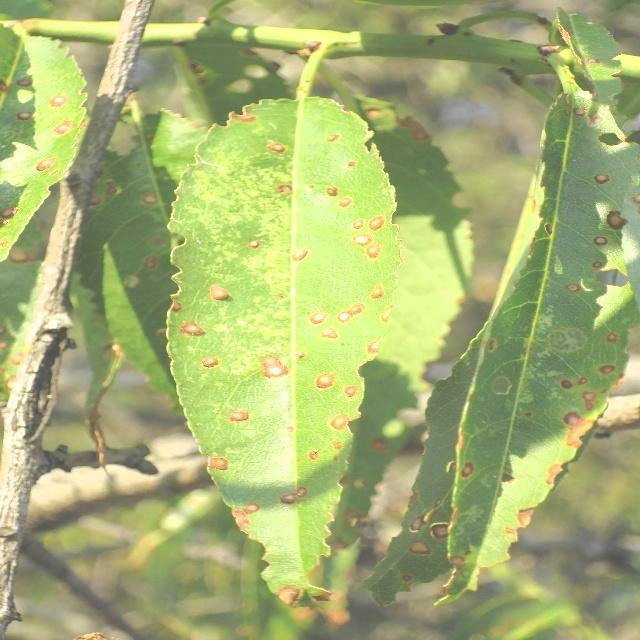leaf_spot: (158, 82, 402, 630), (426, 77, 640, 615), (0, 23, 93, 322)
